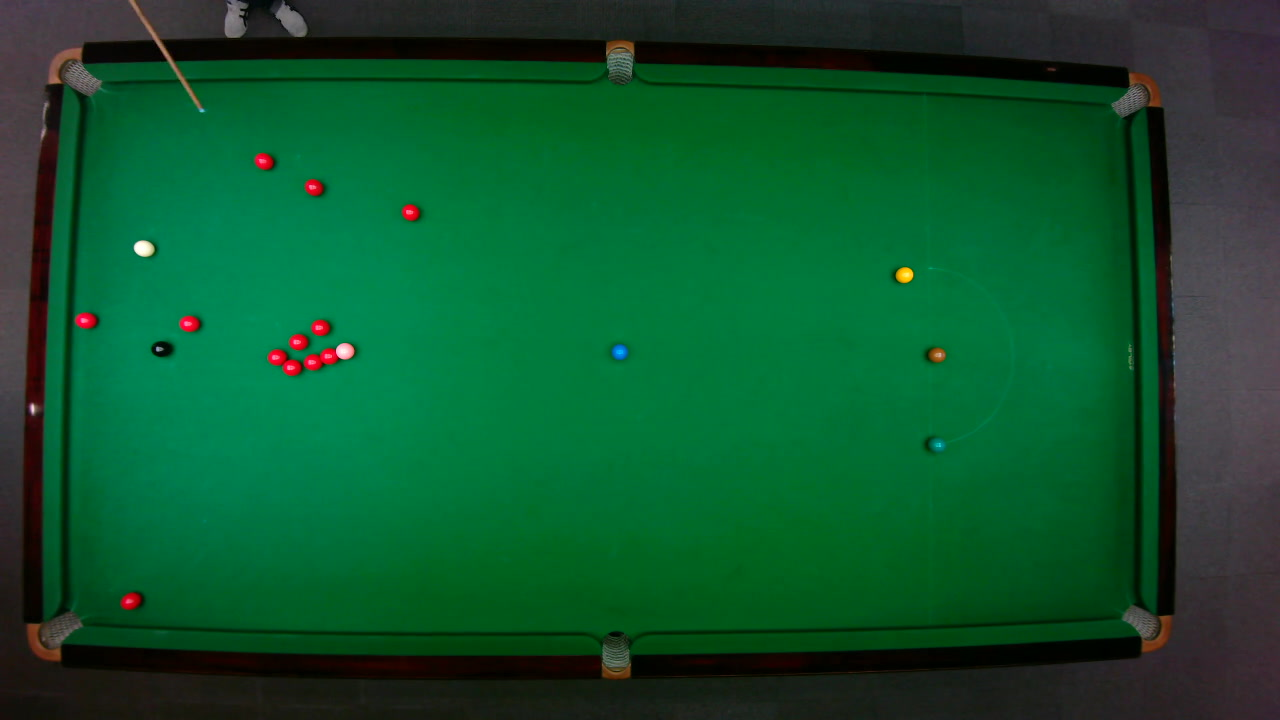bag: (24, 609, 83, 661), (45, 46, 102, 96), (1119, 603, 1171, 652), (1108, 71, 1161, 118), (600, 629, 629, 680), (605, 38, 633, 85)
black: (149, 339, 171, 357)
blue: (610, 342, 628, 360)
brown: (926, 346, 946, 362)
cue: (128, 0, 207, 115)
green: (926, 435, 946, 453)
pink: (334, 341, 355, 360)
red: (118, 590, 142, 610), (73, 310, 97, 329), (302, 177, 324, 196), (265, 347, 287, 366), (177, 314, 200, 332), (309, 317, 330, 336), (253, 151, 274, 170), (400, 202, 420, 221), (281, 358, 302, 376), (302, 352, 323, 370), (287, 332, 308, 350), (318, 346, 337, 365)
white: (132, 238, 155, 257)
yellow: (893, 265, 914, 283)
zone: (926, 265, 1013, 445)
